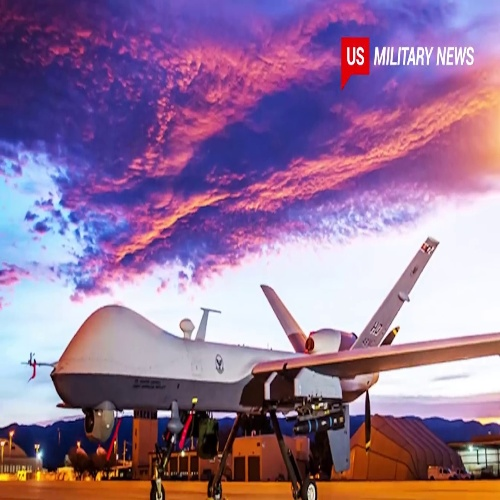uav224: (25, 237, 500, 499)
